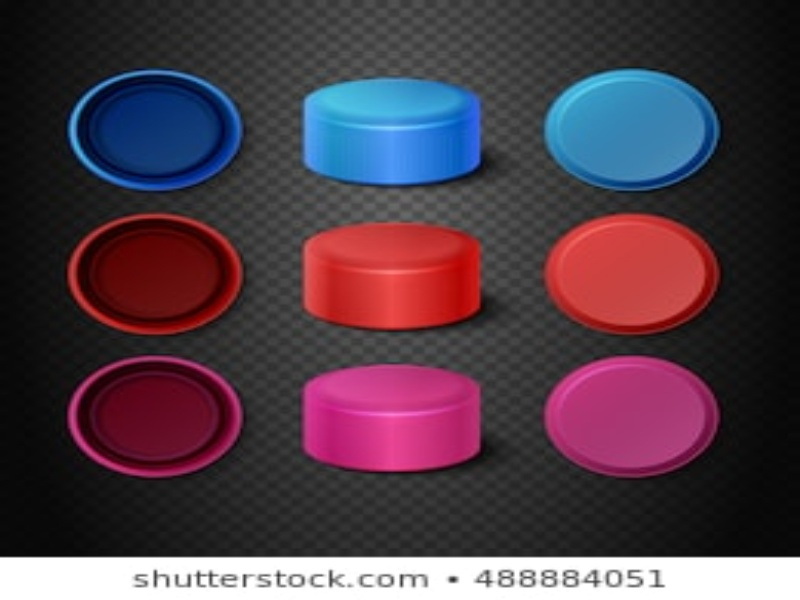bottle-cap: (539, 69, 722, 193), (540, 354, 723, 478), (541, 213, 724, 337), (69, 67, 247, 194), (66, 350, 244, 477), (66, 211, 244, 338), (301, 75, 490, 187), (298, 361, 487, 473), (296, 222, 485, 334)
